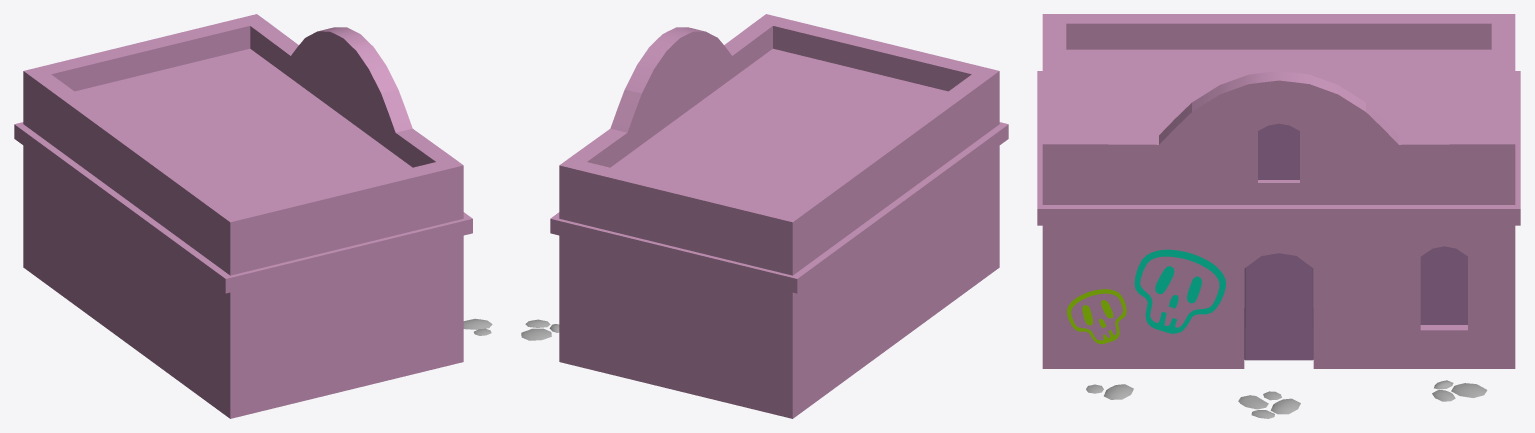
The model's file is building_graffiti_stones.fbx.
The picture shows the model from 3 angles, left to right: view 1: azimuth 30°, elevation 25°; view 2: azimuth 150°, elevation 25°; view 3: azimuth 270°, elevation 25°; orthographic projection. The views are drawn at different scales.
Parts seen in each view (by area): view 1: Building1; view 2: Building1, stones2; view 3: Building1, Graffiti3, Graffiti4, stones3, stones2, stones1.
Part boxes in pixels (bbox=[...]): Building1: bbox=[14, 14, 472, 418]; Building1: bbox=[550, 14, 1008, 418]; stones2: bbox=[521, 319, 559, 340]; Building1: bbox=[1037, 14, 1520, 368]; Graffiti3: bbox=[1134, 249, 1225, 333]; Graffiti4: bbox=[1067, 289, 1126, 343]; stones3: bbox=[1238, 391, 1300, 418]; stones2: bbox=[1432, 380, 1487, 401]; stones1: bbox=[1086, 384, 1133, 399].
Bounding box in the file's own units: 875 × 630 × 958.
